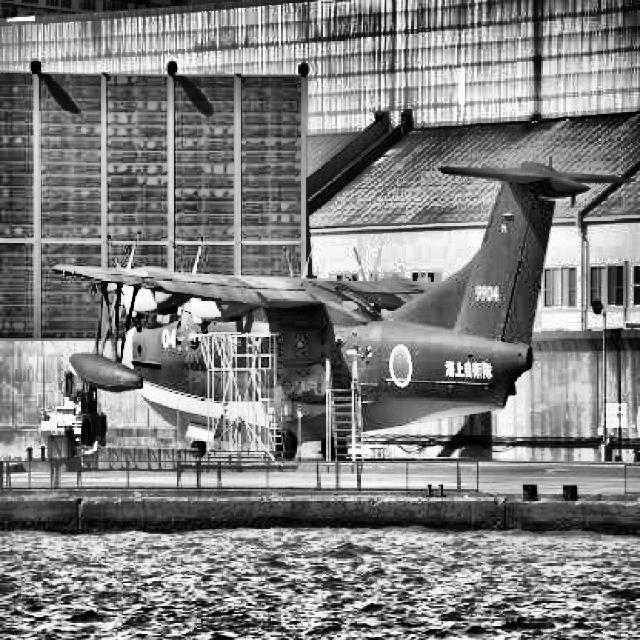US2: (52, 155, 636, 459)
